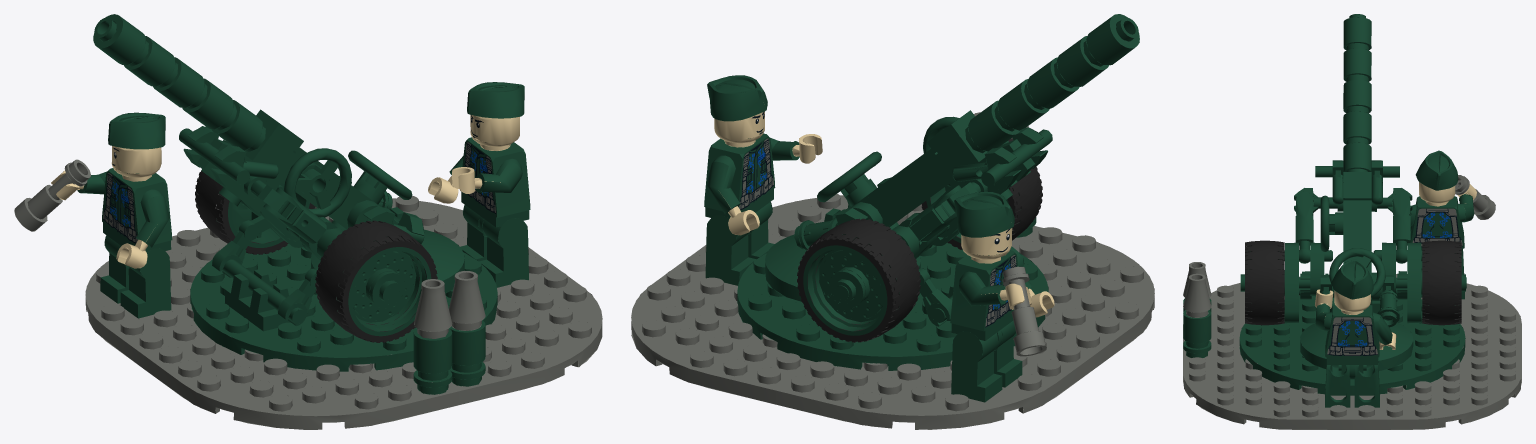
3 views of the same model, side by side, from view 1: azimuth 30°, elevation 25°; view 2: azimuth 150°, elevation 25°; view 3: azimuth 270°, elevation 25° (orthographic). The views are drawn at different scales.
Parts seen in each view (by area): view 1: 迫击炮（基础款）; view 2: 迫击炮（基础款）; view 3: 迫击炮（基础款）.
Boxes of the visible parts, bbox=[...] form: 迫击炮（基础款）: bbox=[14, 14, 602, 429]; 迫击炮（基础款）: bbox=[631, 14, 1154, 429]; 迫击炮（基础款）: bbox=[1183, 14, 1521, 429].
Bounding box in the file's own units: 267 × 205 × 240.
